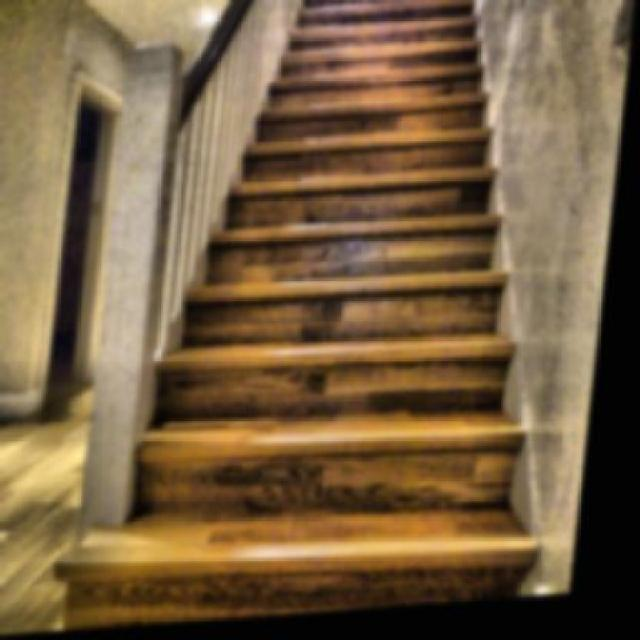stair: (158, 0, 606, 585)
